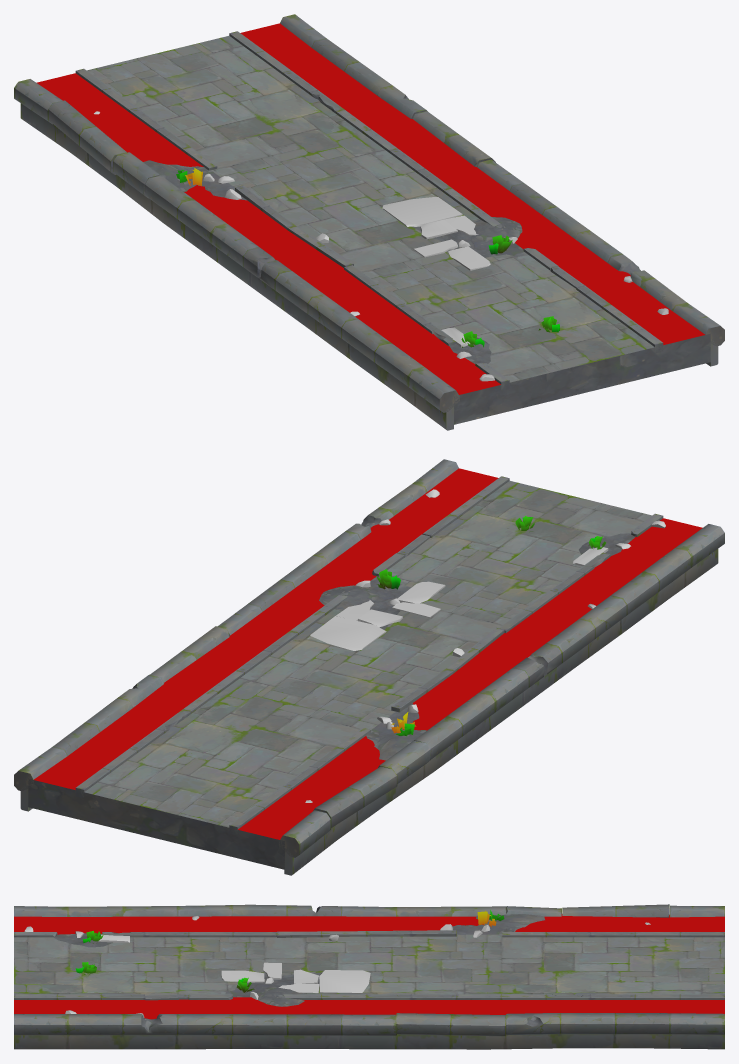
Rendered from Area_MdBuild_SdBridge20_Group.fbx.
The picture shows the model from 3 angles, top to bottom: view 1: azimuth 30°, elevation 25°; view 2: azimuth 150°, elevation 25°; view 3: azimuth 270°, elevation 25°; orthographic projection. The views are drawn at different scales.
Parts seen in each view (by area): view 1: Area_MdBuild_SdBridge20_Lod0; view 2: Area_MdBuild_SdBridge20_Lod0; view 3: Area_MdBuild_SdBridge20_Lod0, Stages_SGrass15_Vo.
Boxes of the visible parts, bbox=[...] form: Area_MdBuild_SdBridge20_Lod0: bbox=[14, 14, 724, 430]; Area_MdBuild_SdBridge20_Lod0: bbox=[14, 459, 724, 875]; Area_MdBuild_SdBridge20_Lod0: bbox=[14, 904, 724, 1049]; Stages_SGrass15_Vo: bbox=[477, 910, 504, 927].
Bounding box in the file's own units: 10.53 × 1.71 × 27.
